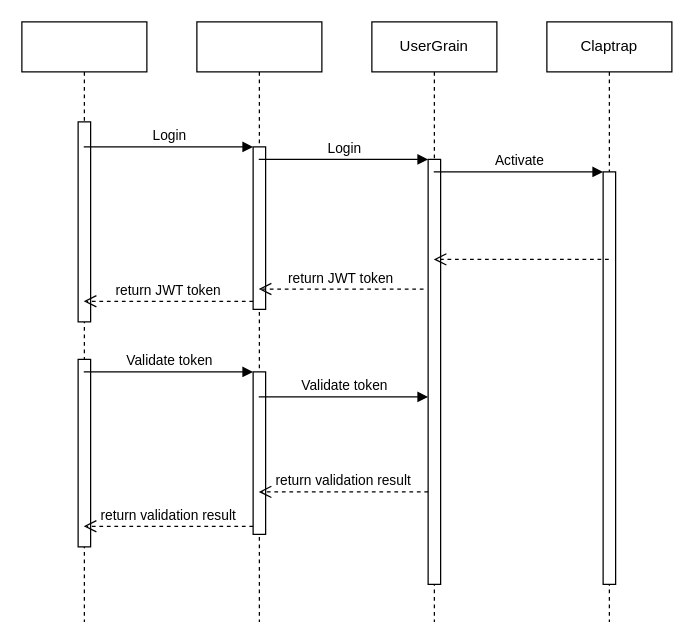
Some shapes in this 694 by 644 pixel diagram are drawn without their labels. The box of each missing label's shape, as (x1, y1, x2, y2) in pixels:
User: (21, 21, 147, 622)
WebAPI: (196, 21, 322, 622)
